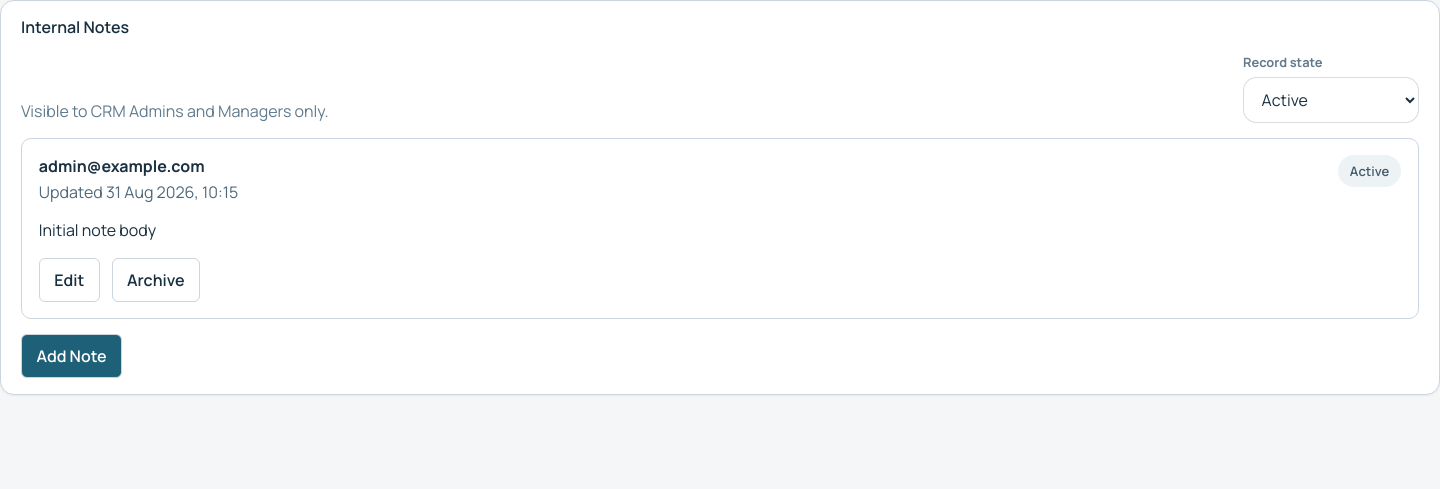
Test case: PersonNotesSectionComponent › changes the lifecycle filter and reloads notes from the first page
The image size is (1440, 489).
Select "Archived" in the dropdown labelled "Record state" at (1331, 100), box [1243,77,1419,123]
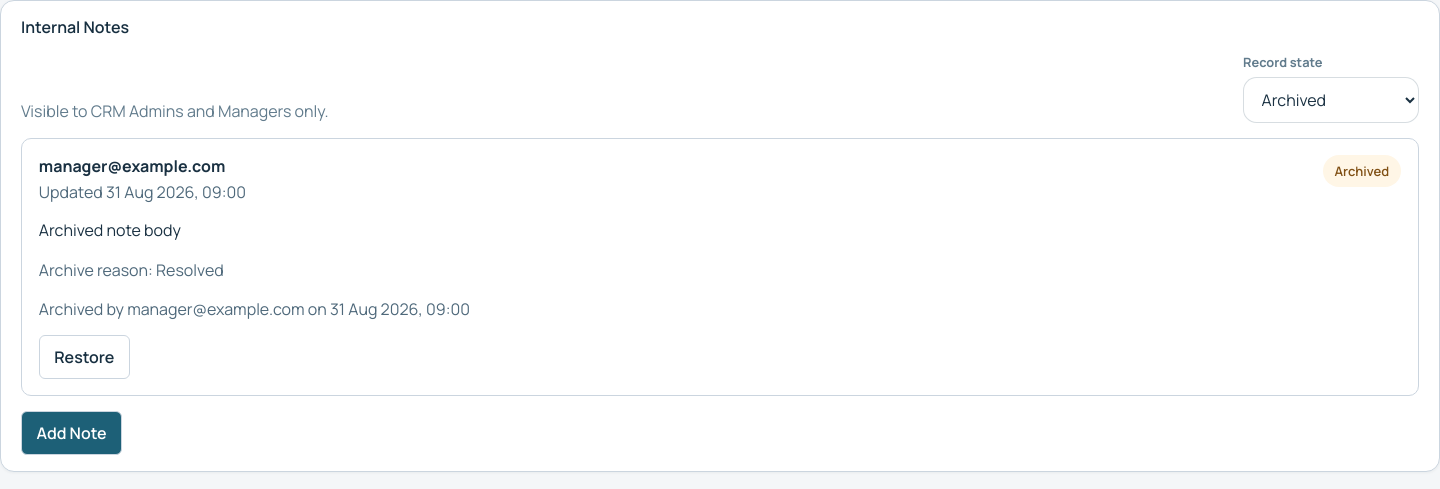
Expected: the text "Archived note body" is shown, [39,219,181,241]
Expected: the text "Archive reason: Resolved" is shown, [39,259,224,281]
